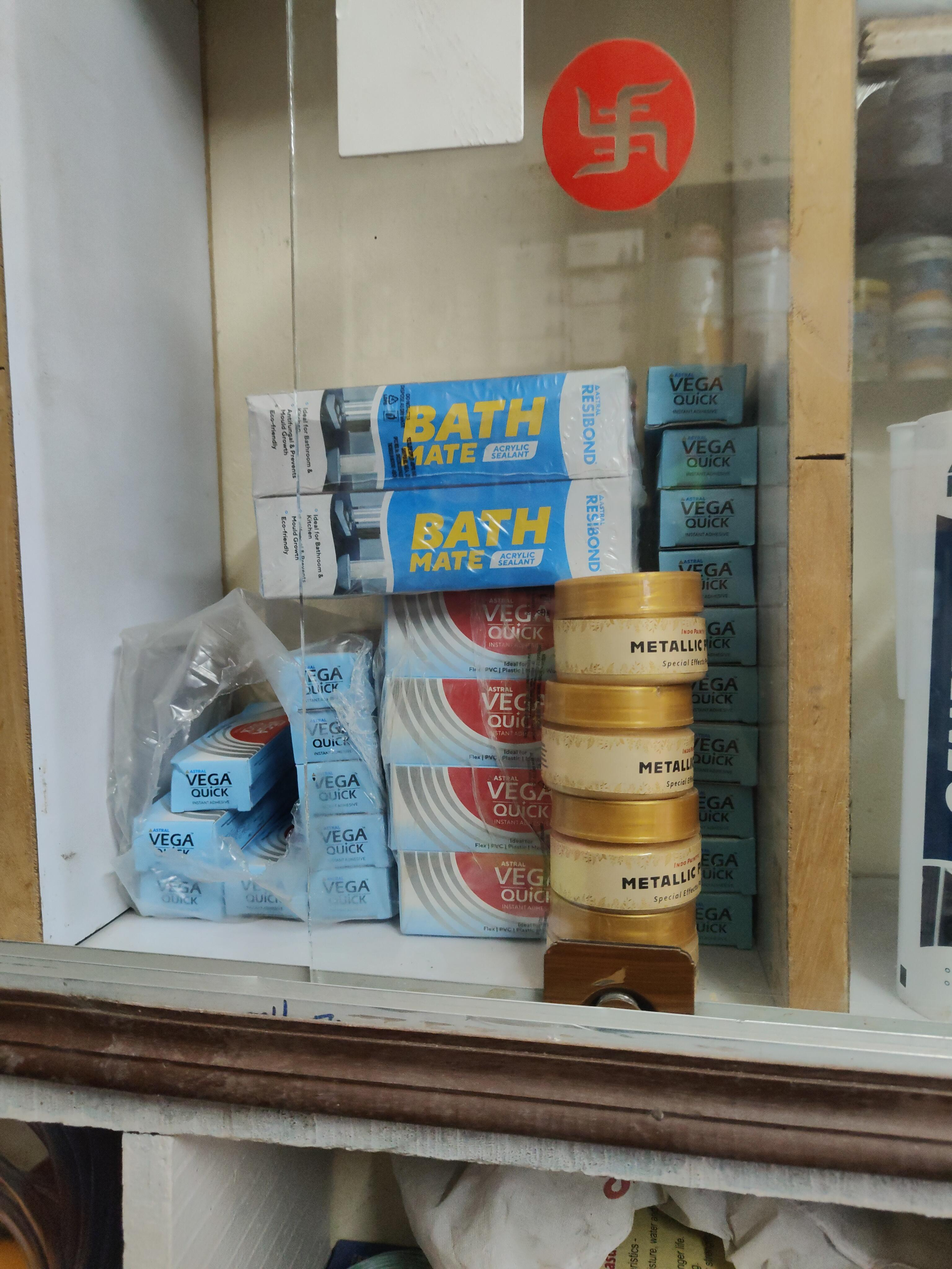RESIBOND_GENERAL PURPOSE GP 100: (889, 411, 952, 1021)
